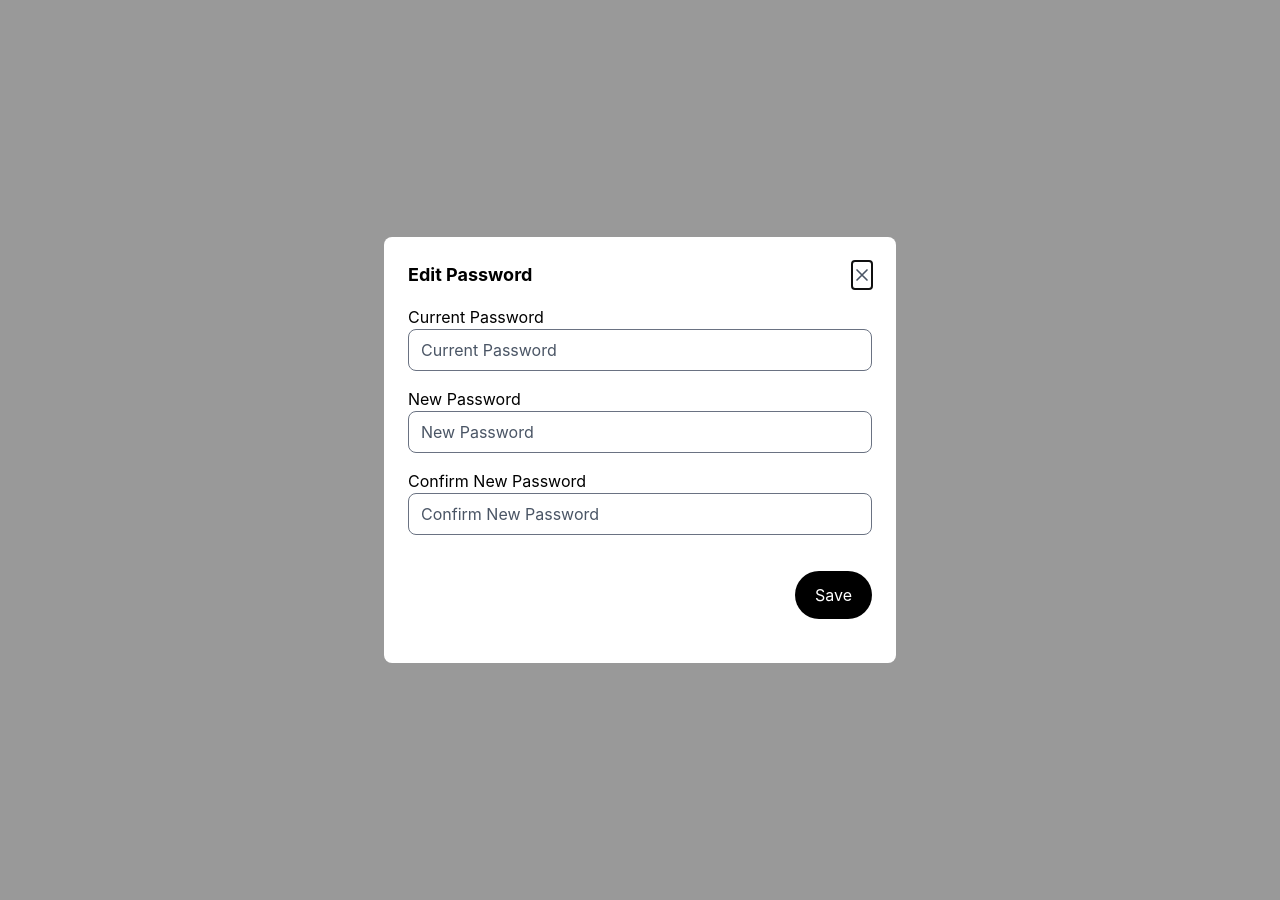
Test case: shows a failure message when the new password is too short
In the password field labelled "Current Password": [640, 350] box [408,329,872,371], type "oldpassword"
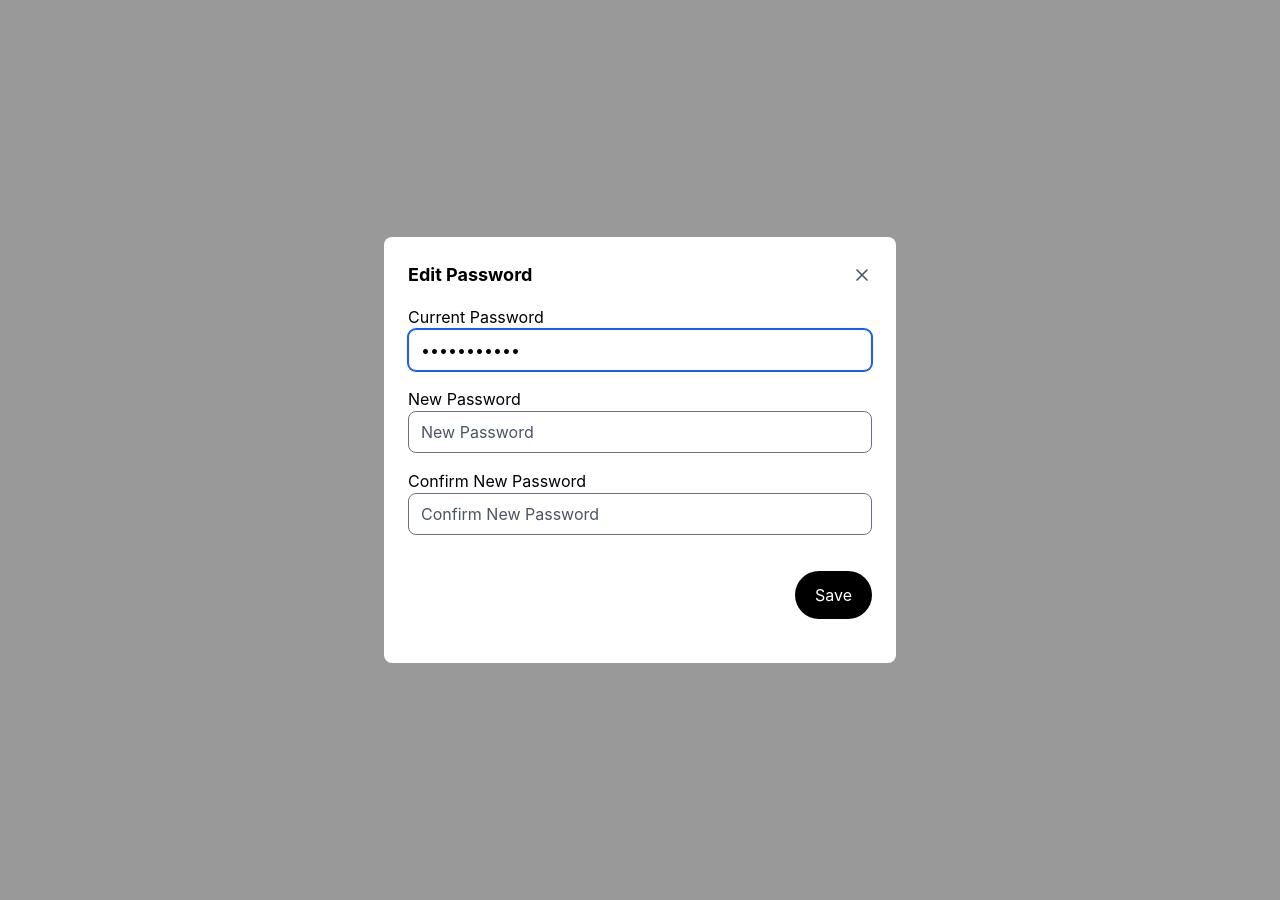
In the password field labelled "New Password": [640, 432] box [408,411,872,453], type "short"
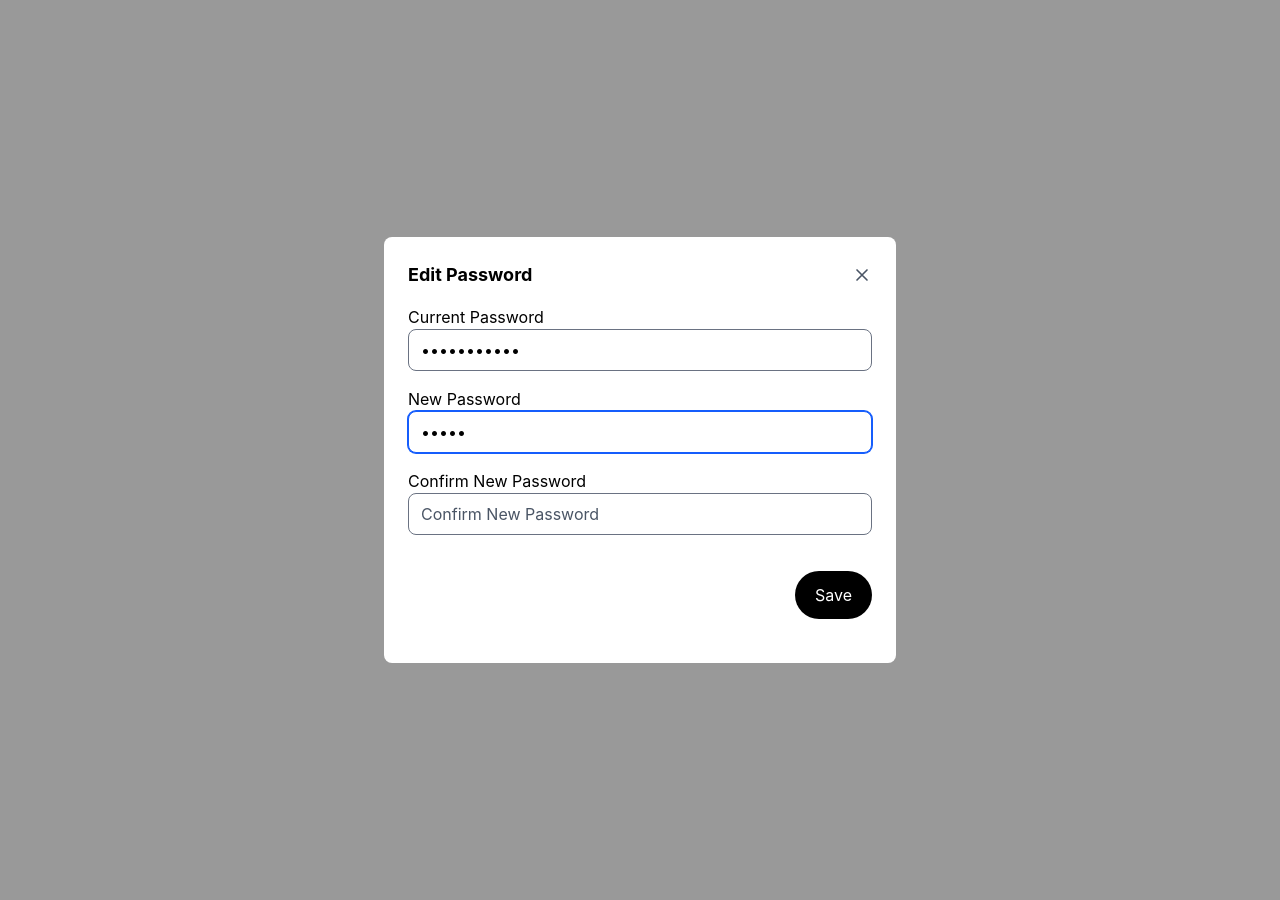
In the password field labelled "Confirm New Password": [640, 514] box [408,493,872,535], type "short"
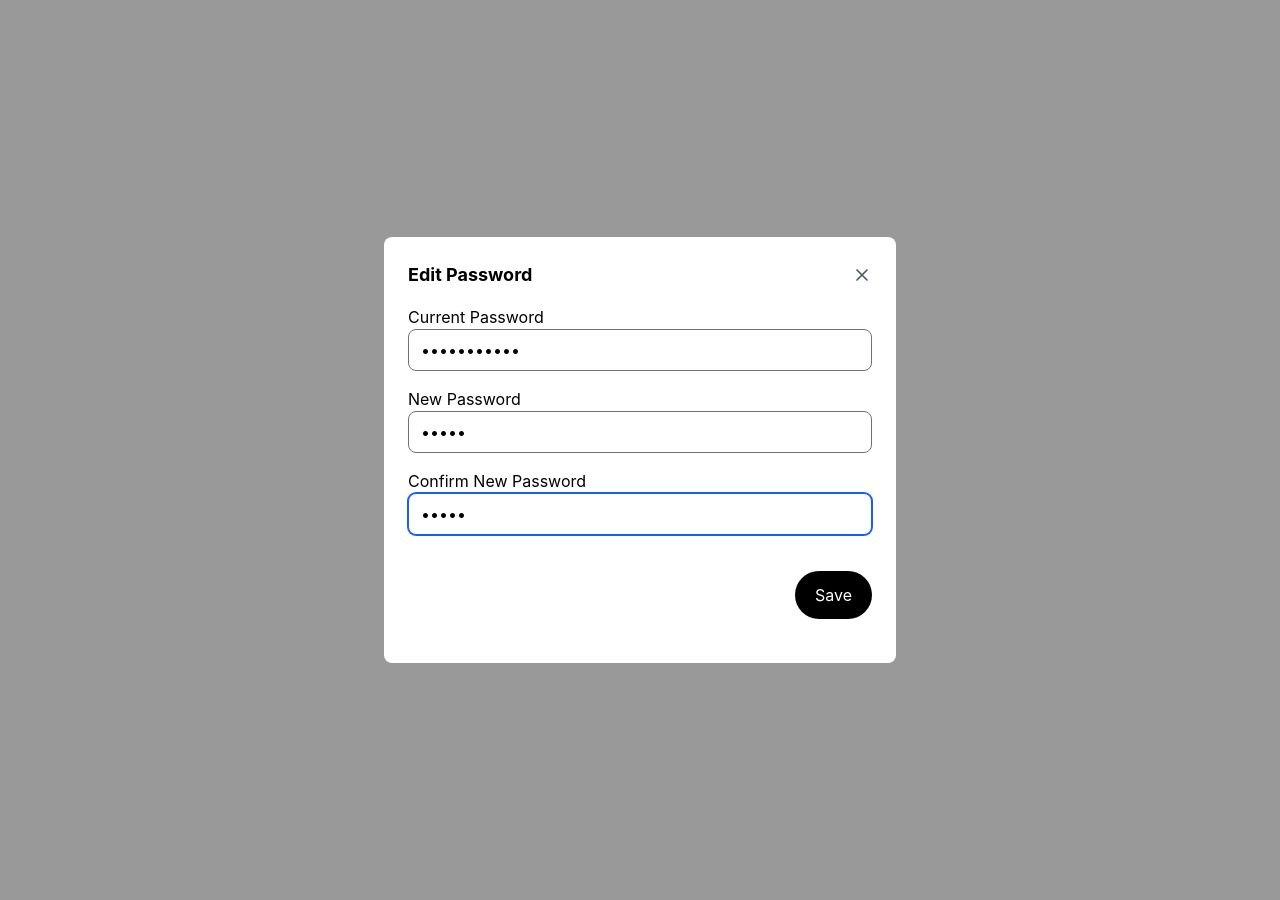
Click the button "Save": [834, 595] box [795,571,872,619]
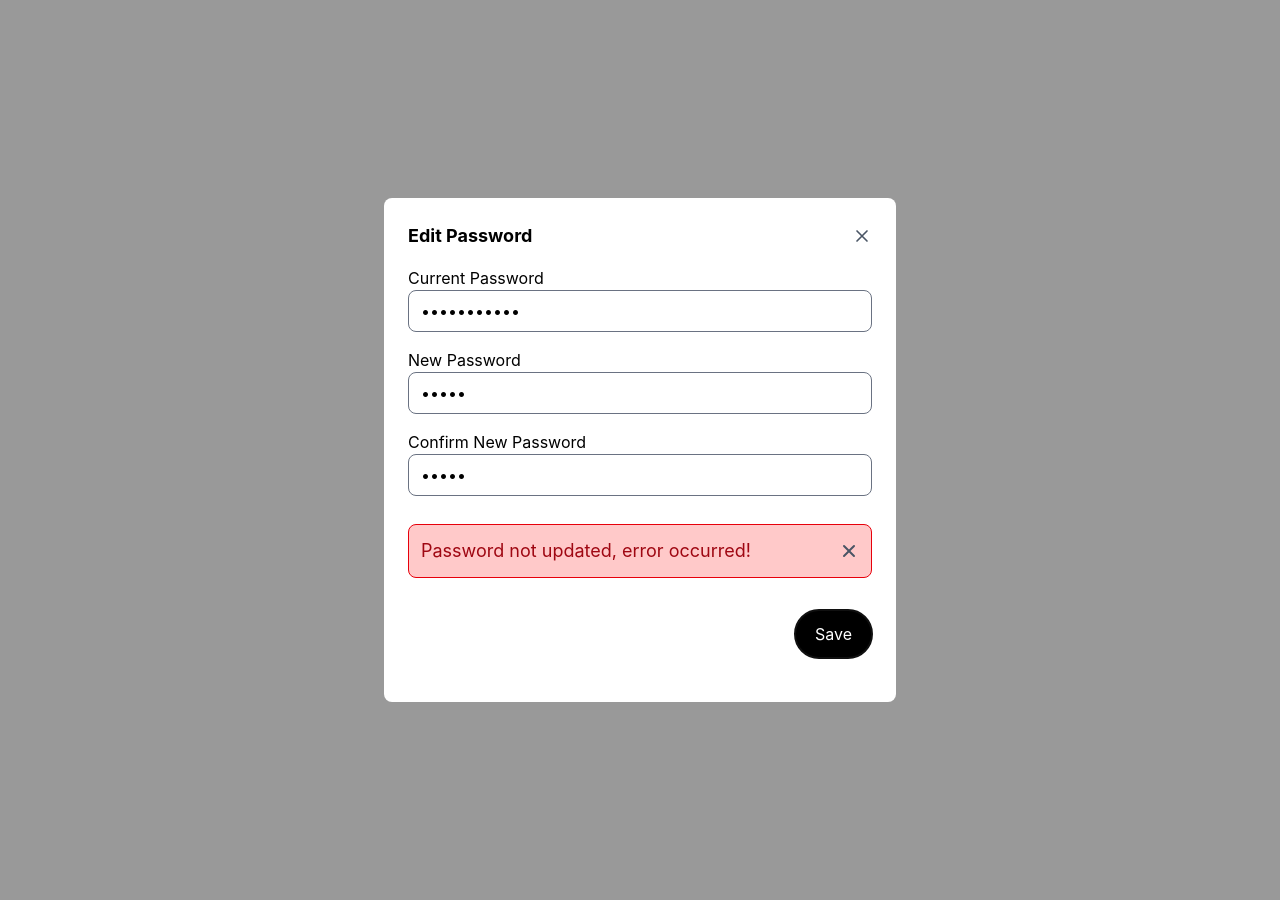
Expected: the message reads "Password not updated, error occurred!", [421,540,751,561]
